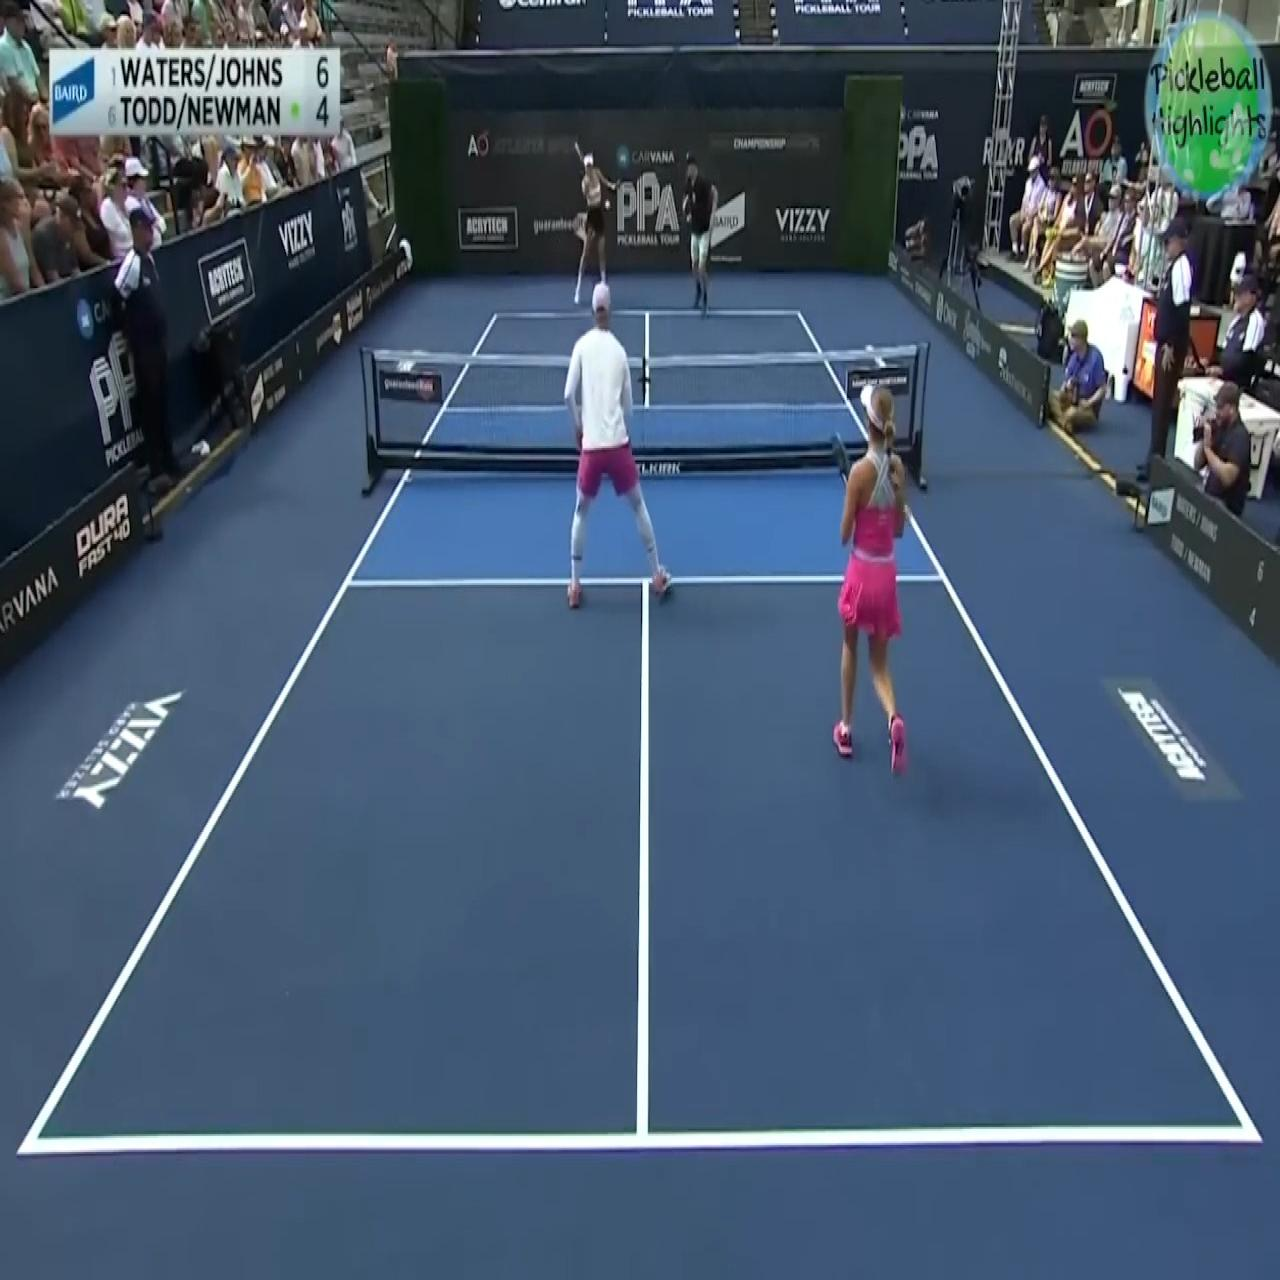Pickleball: (604, 196, 614, 209)
